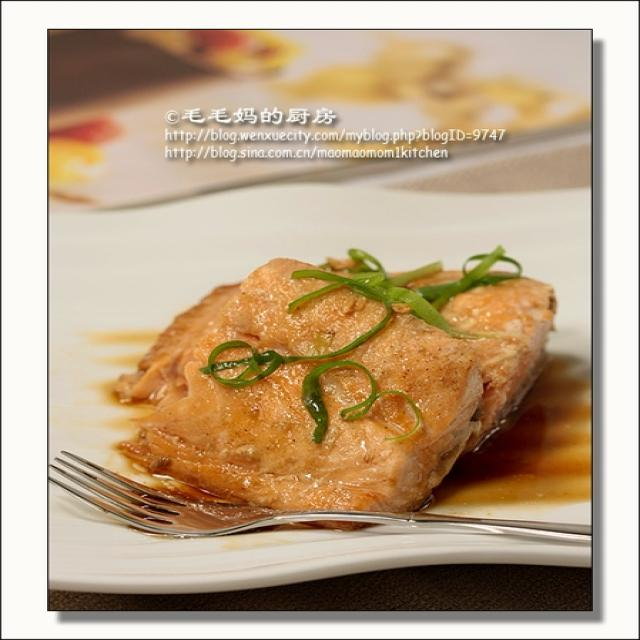熟制海鲜: (90, 226, 567, 547)
